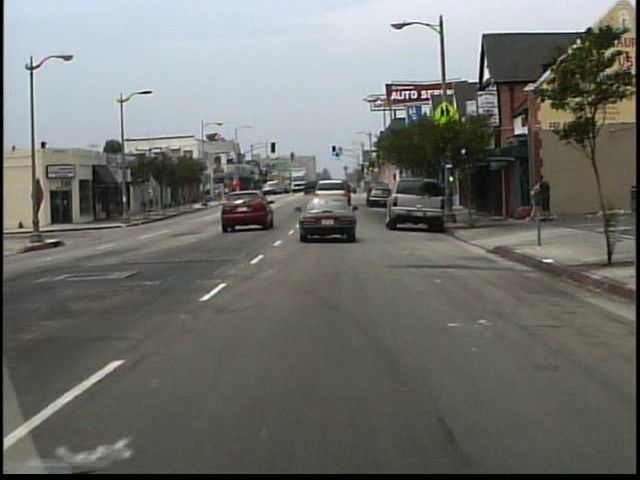person: (529, 179, 541, 223), (539, 176, 551, 220), (147, 188, 157, 214)
